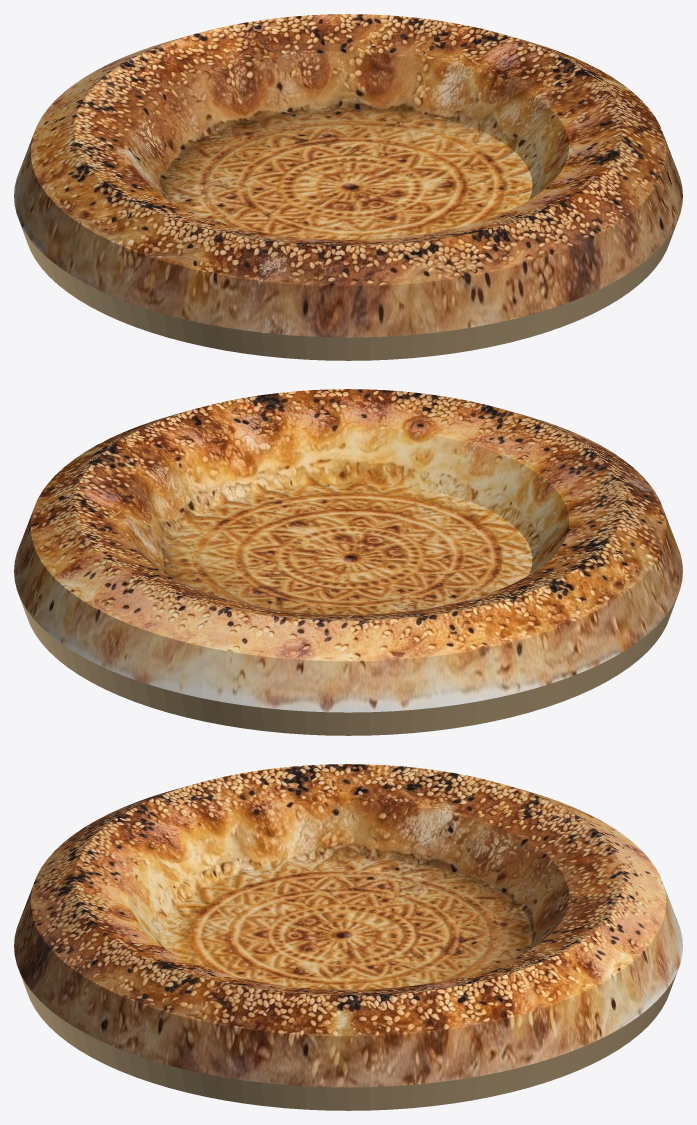
File: non.glb
3 views of the same model, one above another, from view 1: azimuth 30°, elevation 25°; view 2: azimuth 150°, elevation 25°; view 3: azimuth 270°, elevation 25° (orthographic).
Visible parts, largest first — view 1: non_0, non_1; view 2: non_0, non_1; view 3: non_0, non_1.
Boxes of the visible parts, <box> form: non_0: <box>14,14,682,337</box>; non_1: <box>20,223,676,360</box>; non_0: <box>14,389,682,712</box>; non_1: <box>20,598,676,735</box>; non_0: <box>14,764,682,1087</box>; non_1: <box>20,973,676,1110</box>.
Size of the model in its own units: 0.22 by 0.036 by 0.22.
2 materials, 1 textured.
